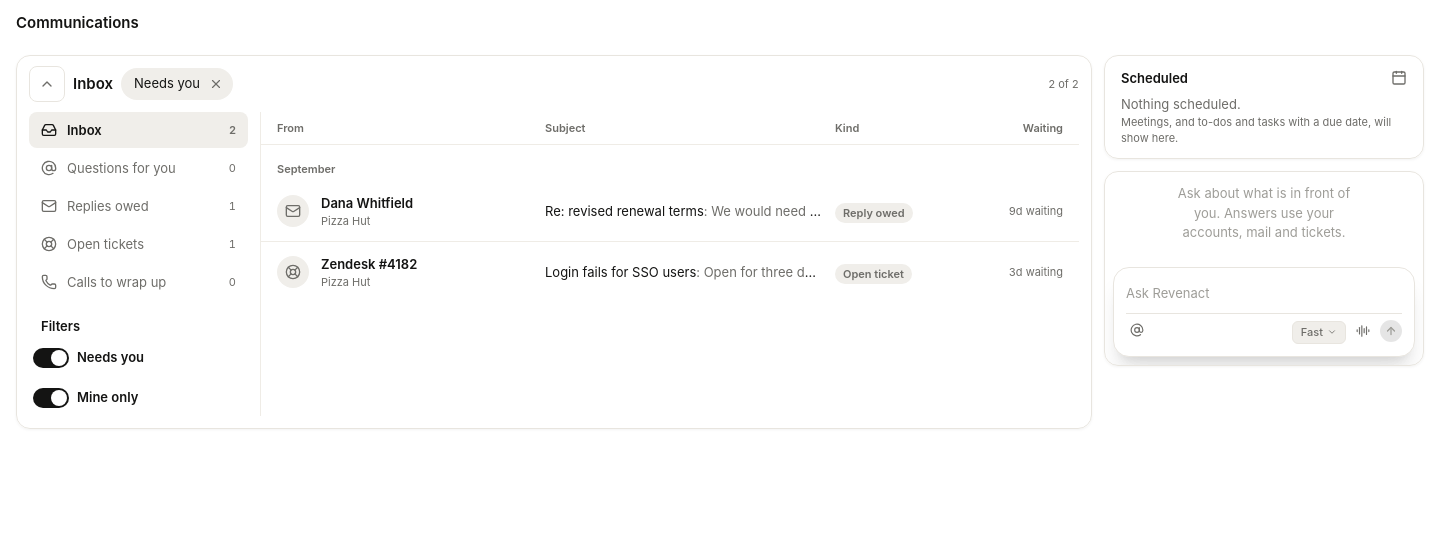
Test case: CommunicationsPage › opens an item in place, with the account context above the composer, and goes back
The width and height of the screenshot is (1440, 548).
Click the button "Dana Whitfield". click: {"x": 427, "y": 203}
box: [321, 193, 533, 213]
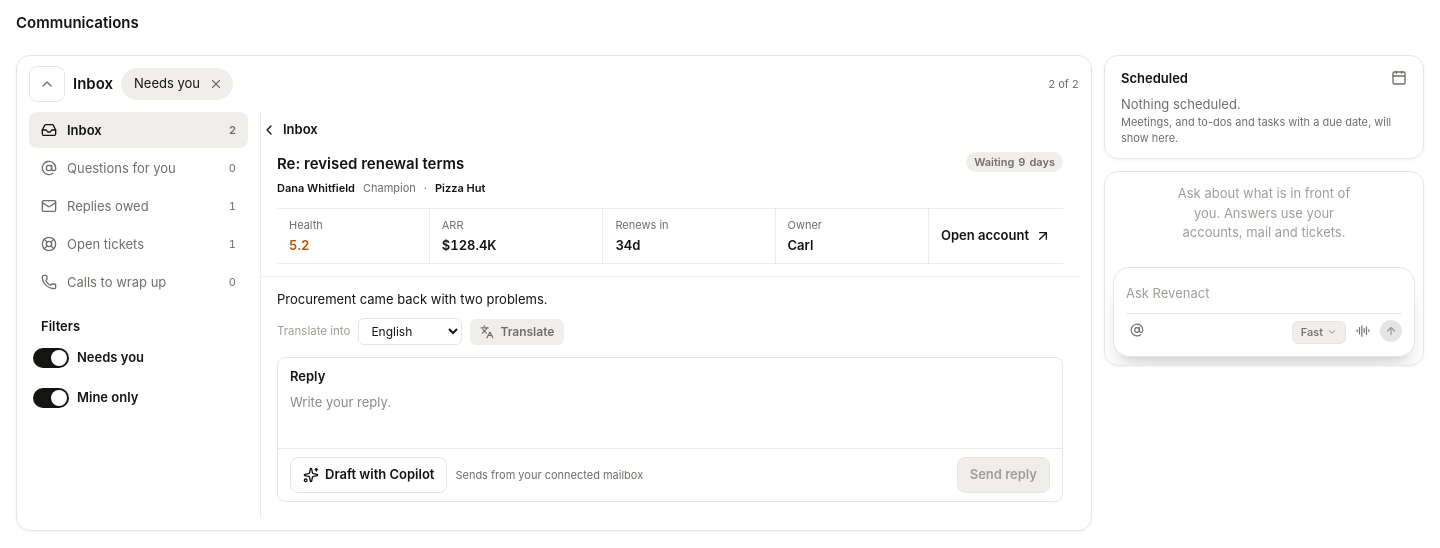
Result: the text "34d" is shown at [616, 237, 640, 253]
Result: the text "$128.4K" is shown at [442, 237, 496, 253]
Result: the button "Send reply" is disabled at [957, 457, 1050, 493]
Click the button "Inbox". click: {"x": 289, "y": 130}
box: [249, 112, 330, 148]
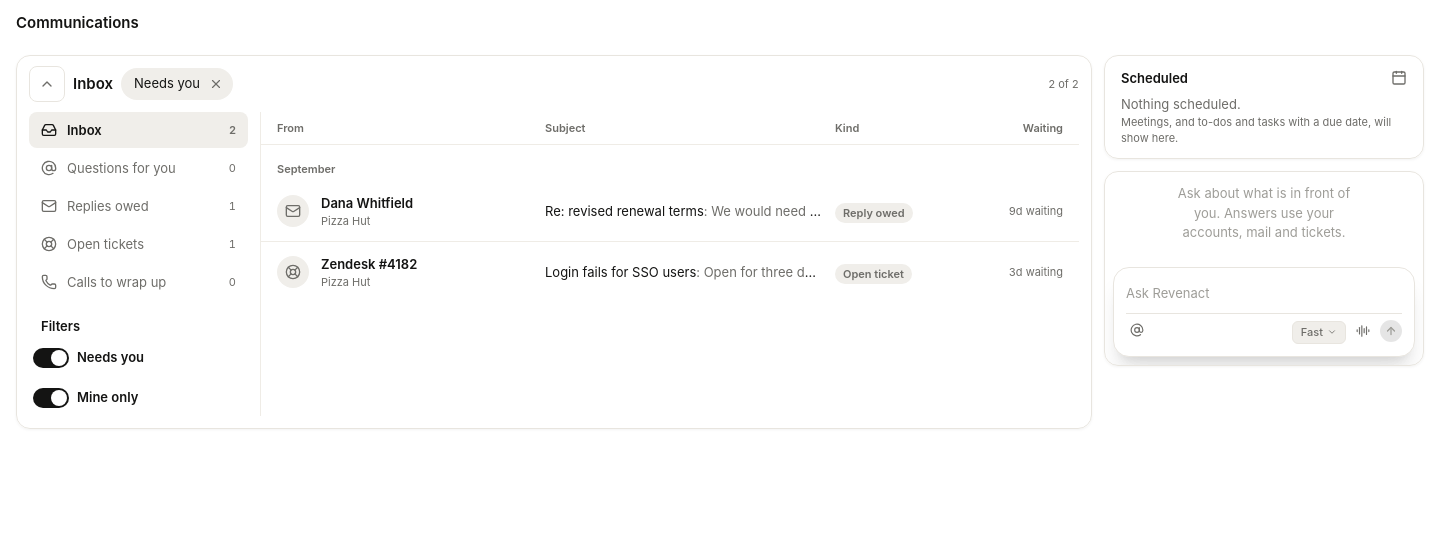
Result: the element named "queue" is shown at [261, 112, 1079, 289]
